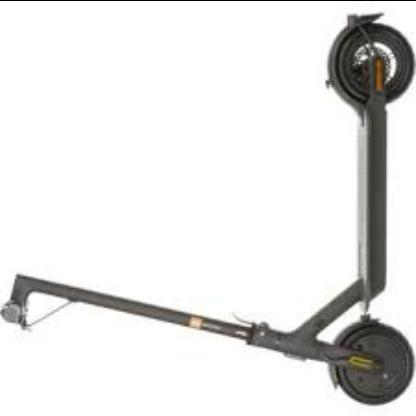bike: (0, 9, 416, 410), (3, 271, 414, 408)
